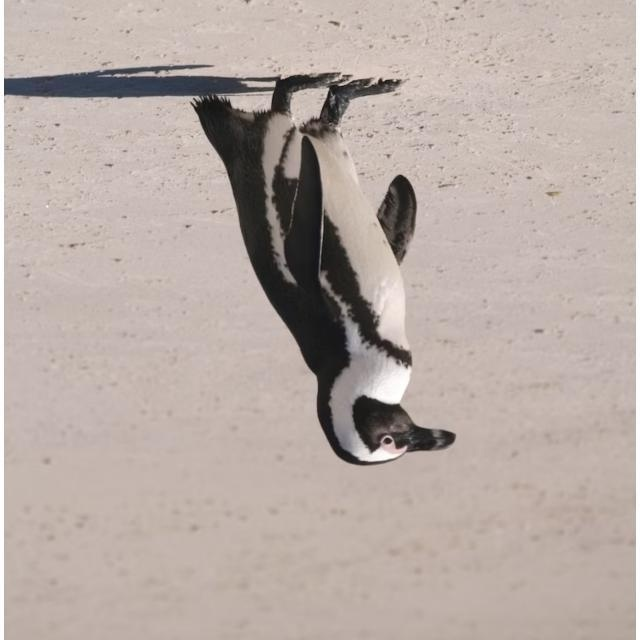penguin: (192, 72, 457, 467)
